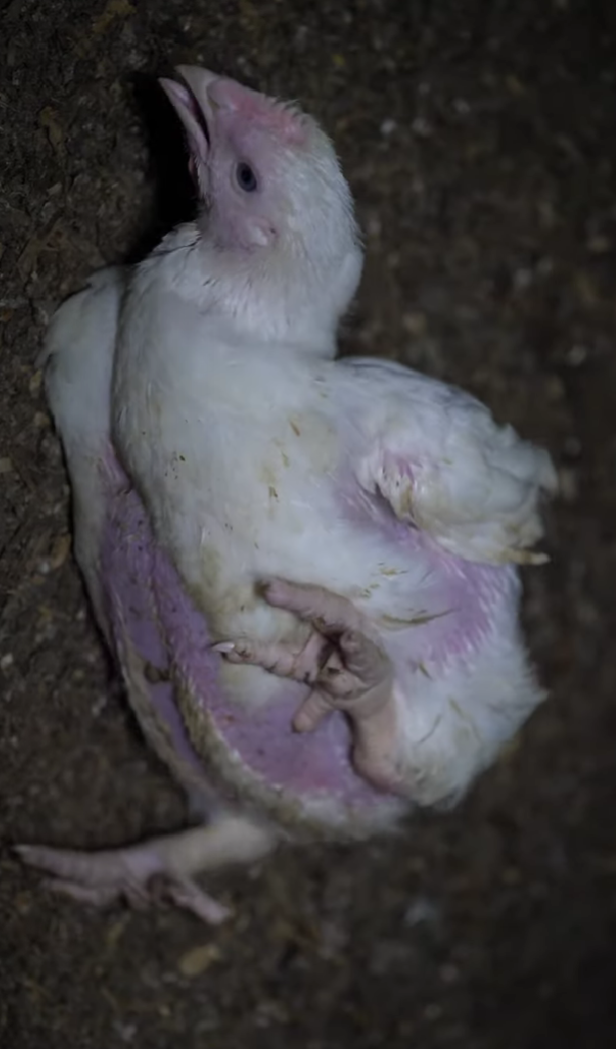Unhealthy: (32, 53, 557, 954)
